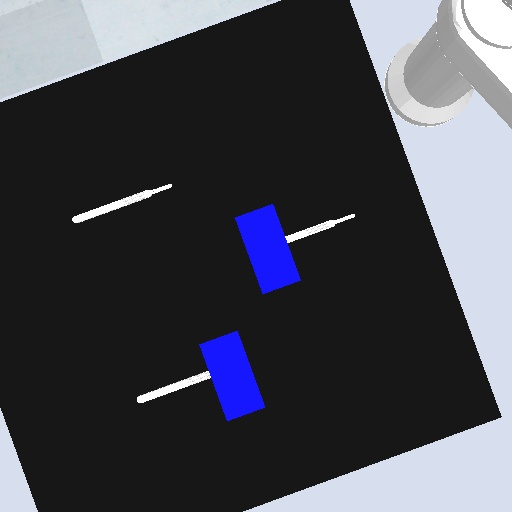bisturi: (70, 181, 175, 227), (134, 368, 213, 406), (283, 210, 358, 247)
